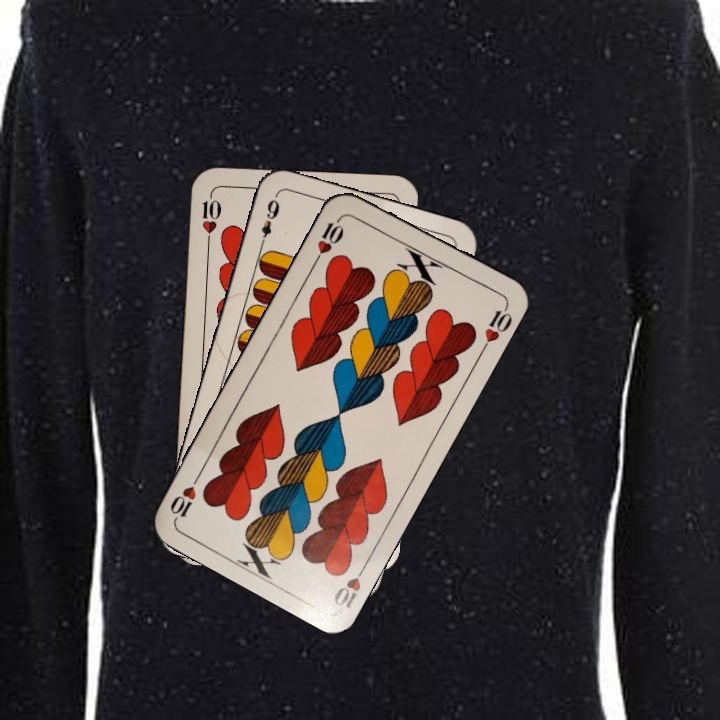E9: (255, 192, 283, 250)
H10: (329, 557, 373, 612), (310, 212, 347, 266), (198, 190, 223, 249)
